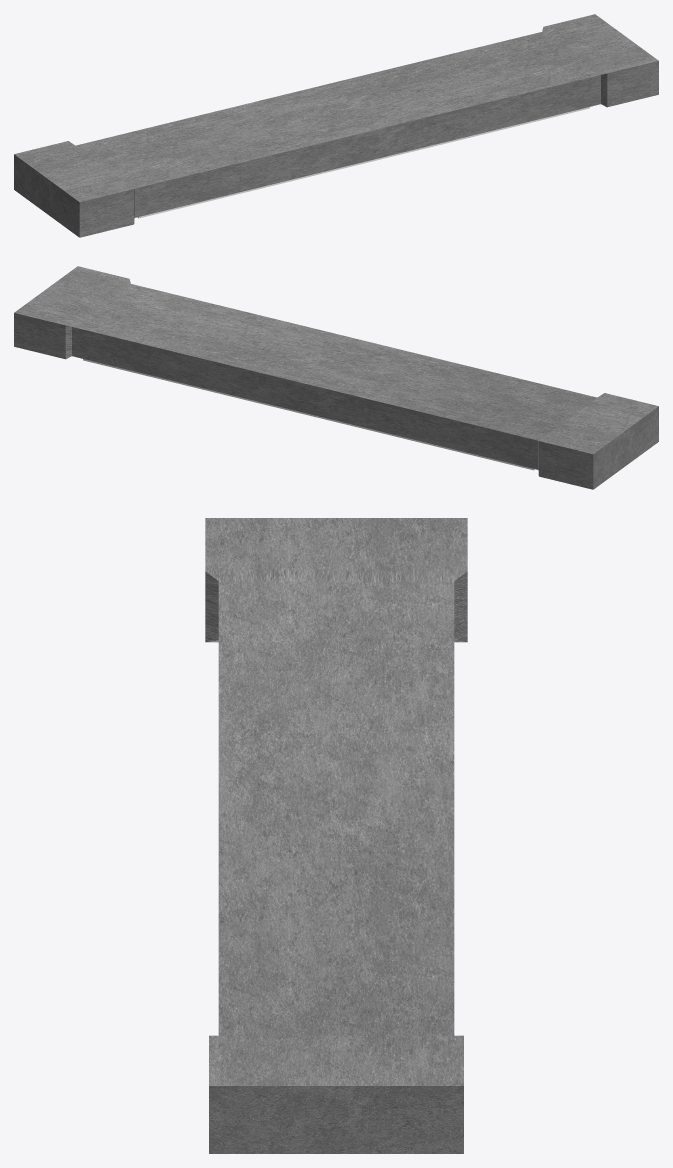
Rendered from Ceiling lamp.FBX.
The picture shows the model from 3 angles, top to bottom: view 1: azimuth 30°, elevation 25°; view 2: azimuth 150°, elevation 25°; view 3: azimuth 270°, elevation 25°; orthographic projection. The views are drawn at different scales.
Visible parts, largest first — view 1: ceiling lamp; view 2: ceiling lamp; view 3: ceiling lamp.
Boxes of the visible parts, <box> form: ceiling lamp: <box>14,14,658,237</box>; ceiling lamp: <box>14,266,658,489</box>; ceiling lamp: <box>205,518,467,1153</box>.
Bounding box in the file's own units: 60.47 × 3.7 × 11.85.
2 materials, 1 textured.
